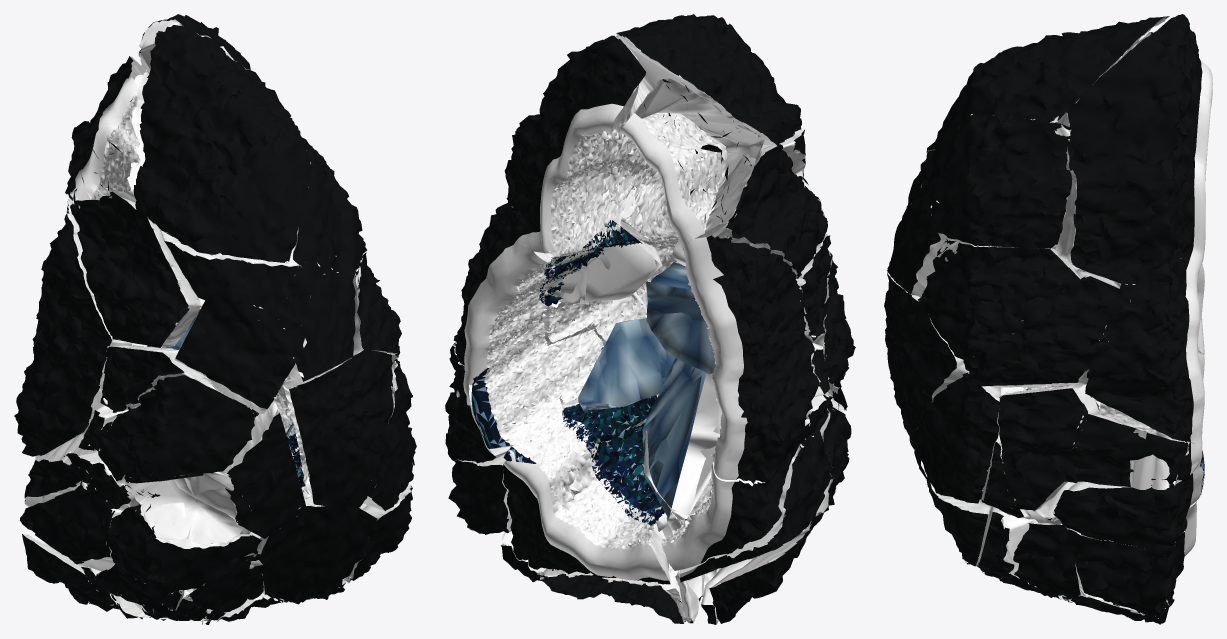
File: geode-fracture-v2.glb
3 views of the same model, side by side, from view 1: azimuth 30°, elevation 25°; view 2: azimuth 150°, elevation 25°; view 3: azimuth 270°, elevation 25° (orthographic).
Visible parts, largest first — view 1: Geode fragment 07, Geode fragment 47, Geode fragment 10, Geode fragment 38, Geode fragment 72, Geode fragment 11, Geode fragment 52, Geode fragment 06, Geode fragment 64, Geode fragment 56, Geode fragment 03, Geode fragment 08 (+16 smaller); view 2: Geode fragment 47, Geode fragment 05, Geode fragment 61, Geode fragment 06, Geode fragment 07, Geode fragment 62, Geode fragment 10, Geode fragment 39, Geode fragment 15, Geode fragment 34, Geode fragment 20, Geode fragment 16 (+27 smaller); view 3: Geode fragment 05, Geode fragment 04, Geode fragment 62, Geode fragment 02, Geode fragment 07, Geode fragment 01, Geode fragment 22, Geode fragment 73, Geode fragment 53, Geode fragment 57, Geode fragment 38, Geode fragment 65 (+9 smaller).
Boxes of the visible parts, left/top/right/bottom form: Geode fragment 07: left=133, top=25, right=312, bottom=263; Geode fragment 47: left=14, top=194, right=132, bottom=456; Geode fragment 10: left=69, top=191, right=202, bottom=348; Geode fragment 38: left=283, top=349, right=393, bottom=507; Geode fragment 72: left=87, top=375, right=258, bottom=483; Geode fragment 11: left=174, top=294, right=306, bottom=414; Geode fragment 52: left=257, top=493, right=377, bottom=602; Geode fragment 06: left=65, top=56, right=148, bottom=208; Geode fragment 64: left=106, top=502, right=261, bottom=594; Geode fragment 56: left=174, top=402, right=305, bottom=538; Geode fragment 03: left=278, top=247, right=355, bottom=381; Geode fragment 08: left=159, top=228, right=320, bottom=332; Geode fragment 47: left=684, top=235, right=819, bottom=483; Geode fragment 05: left=501, top=35, right=649, bottom=253; Geode fragment 61: left=502, top=442, right=670, bottom=584; Geode fragment 06: left=549, top=77, right=764, bottom=256; Geode fragment 07: left=616, top=14, right=801, bottom=146; Geode fragment 62: left=453, top=198, right=557, bottom=385; Geode fragment 10: left=704, top=144, right=827, bottom=278; Geode fragment 39: left=471, top=306, right=568, bottom=448; Geode fragment 15: left=662, top=431, right=806, bottom=570; Geode fragment 34: left=666, top=435, right=831, bottom=582; Geode fragment 20: left=578, top=317, right=674, bottom=410; Geode fragment 16: left=642, top=358, right=706, bottom=518; Geode fragment 05: left=1056, top=14, right=1212, bottom=286; Geode fragment 04: left=918, top=113, right=1072, bottom=249; Geode fragment 62: left=1085, top=258, right=1204, bottom=444; Geode fragment 02: left=918, top=238, right=1089, bottom=359; Geode fragment 07: left=924, top=16, right=1169, bottom=161; Geode fragment 01: left=963, top=271, right=1132, bottom=387; Geode fragment 22: left=997, top=384, right=1099, bottom=510; Geode fragment 73: left=909, top=372, right=1000, bottom=503; Geode fragment 53: left=1052, top=467, right=1204, bottom=555; Geode fragment 57: left=1065, top=413, right=1202, bottom=492; Geode fragment 38: left=884, top=270, right=969, bottom=450; Geode fragment 65: left=1064, top=528, right=1185, bottom=618.
Size of the model in its own units: 0.492 by 0.802 by 0.4207.
